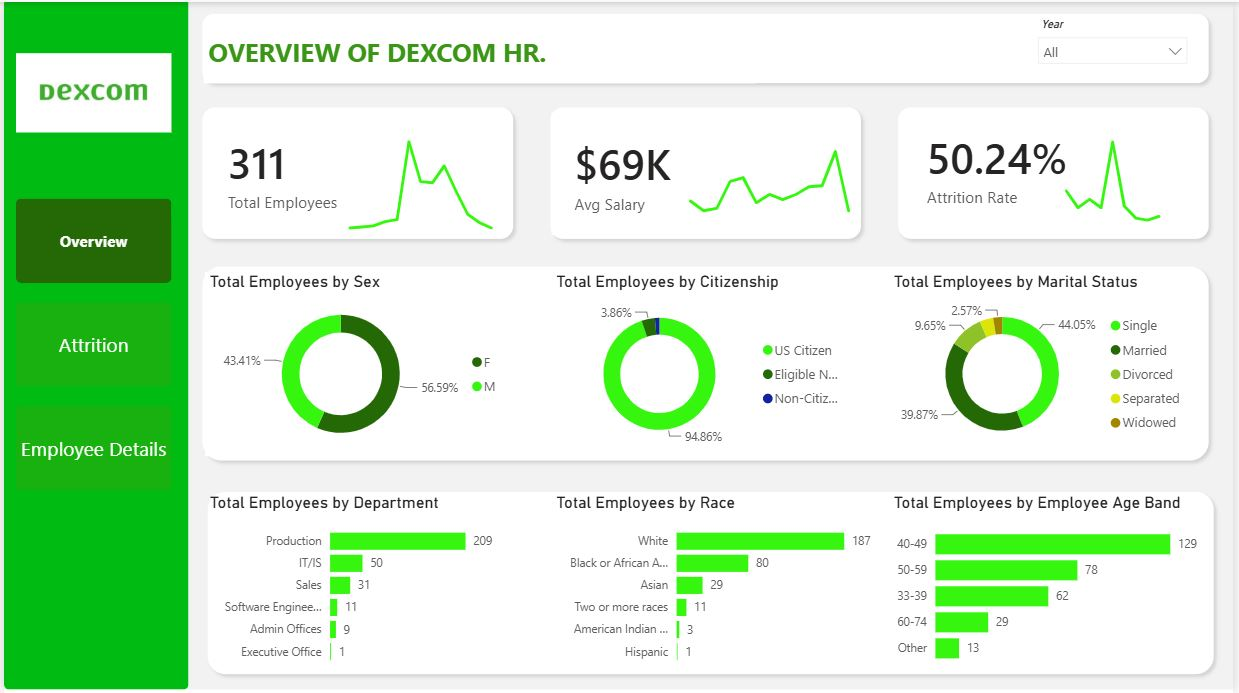

Layout of this report page (visuals, bound fields, positions):
{"tool":"powerbi","page":{"name":"Overview","canvas":[1280,720],"ordinal":0},"visuals":[{"type":"cardVisual","fields":{"Data":["Measures ||.Attrition Rate"]},"box":[938,112.3,204.8,121.9],"z":0,"group":"g3"},{"type":"group","id":"g1","title":"Group 1","box":[209.4,112.5,337.6,129.7],"z":0},{"type":"cardVisual","fields":{"Data":["Measures ||.Avg Salary"]},"box":[570.5,115.7,190.6,127.5],"z":0,"group":"g2"},{"type":"cardVisual","fields":{"Data":["Measures ||.Total Employees"]},"box":[209.4,118.8,164.1,118.8],"z":0,"group":"g1"},{"type":"lineChart","fields":{"Y":["Measures ||.Attrition Rate"],"Category":["Date Table.Year"]},"box":[1067.7,112,211,125],"z":1000,"group":"g3"},{"type":"lineChart","fields":{"Y":["Measures ||.Total Employees"],"Category":["Date Table.Year"]},"box":[332.9,112.5,214.1,129.7],"z":1000,"group":"g1"},{"type":"group","id":"g2","title":"Group 1","box":[570.5,115.7,350.9,131.8],"z":1000},{"type":"lineChart","fields":{"Y":["Measures ||.Avg Salary"],"Category":["Date Table.Year"]},"box":[685.4,116.2,236,131.3],"z":1000,"group":"g2"},{"type":"group","id":"g3","title":"Group 1","box":[938,112,340.7,125],"z":2000},{"type":"donutChart","fields":{"Y":["Measures ||.Total Employees"],"Category":["HR_Dataset.Sex"]},"box":[209.4,281.3,317.3,192.2],"z":3000},{"type":"donutChart","fields":{"Y":["Measures ||.Total Employees"],"Category":["HR_Dataset.CitizenDesc"]},"box":[570.5,281.3,317.3,192.2],"z":4000},{"type":"donutChart","fields":{"Y":["Measures ||.Total Employees"],"Category":["HR_Dataset.MaritalDesc"]},"box":[922.2,281.3,317.3,192.2],"z":5000},{"type":"barChart","fields":{"Y":["Measures ||.Total Employees"],"Category":["HR_Dataset.Department"]},"box":[209.4,511.1,337.6,189.1],"z":6000},{"type":"barChart","fields":{"Y":["Measures ||.Total Employees"],"Category":["HR_Dataset.RaceDesc"]},"box":[570.5,511.1,337.6,189.1],"z":7000},{"type":"barChart","fields":{"Y":["Measures ||.Total Employees"],"Category":["HR_Dataset.Employee Age Band"]},"box":[922.2,511.1,337.6,189.1],"z":8000},{"type":"slicer","fields":{"Values":["Date Table.Year"]},"box":[1067.5,10.9,175.1,73.5],"z":9000},{"type":"textbox","box":[208.6,27.6,574.2,56.9],"z":10000},{"type":"pageNavigator","box":[12.1,205.2,162.1,305.2],"z":11000},{"type":"image","box":[12.1,0,162.1,189.7],"z":12000}]}

Visuals, with their boxes in screenshot pixels (x1, y1, x2, y2), scaled from the page's 1280x720 canvas onto the 1239x693 screenshot:
cardVisual - Measures ||.Attrition Rate: (left=908, top=108, right=1106, bottom=225)
"Group 1" group: (left=203, top=108, right=529, bottom=233)
cardVisual - Measures ||.Avg Salary: (left=552, top=111, right=737, bottom=234)
cardVisual - Measures ||.Total Employees: (left=203, top=114, right=362, bottom=229)
lineChart - Measures ||.Attrition Rate x Date Table.Year: (left=1034, top=108, right=1238, bottom=228)
lineChart - Measures ||.Total Employees x Date Table.Year: (left=322, top=108, right=529, bottom=233)
"Group 1" group: (left=552, top=111, right=892, bottom=238)
lineChart - Measures ||.Avg Salary x Date Table.Year: (left=663, top=112, right=892, bottom=238)
"Group 1" group: (left=908, top=108, right=1238, bottom=228)
donutChart - Measures ||.Total Employees x HR_Dataset.Sex: (left=203, top=271, right=510, bottom=456)
donutChart - Measures ||.Total Employees x HR_Dataset.CitizenDesc: (left=552, top=271, right=859, bottom=456)
donutChart - Measures ||.Total Employees x HR_Dataset.MaritalDesc: (left=893, top=271, right=1200, bottom=456)
barChart - Measures ||.Total Employees x HR_Dataset.Department: (left=203, top=492, right=529, bottom=674)
barChart - Measures ||.Total Employees x HR_Dataset.RaceDesc: (left=552, top=492, right=879, bottom=674)
barChart - Measures ||.Total Employees x HR_Dataset.Employee Age Band: (left=893, top=492, right=1219, bottom=674)
slicer - Date Table.Year: (left=1033, top=10, right=1203, bottom=81)
textbox: (left=202, top=27, right=758, bottom=81)
pageNavigator: (left=12, top=198, right=169, bottom=491)
image: (left=12, top=0, right=169, bottom=183)
